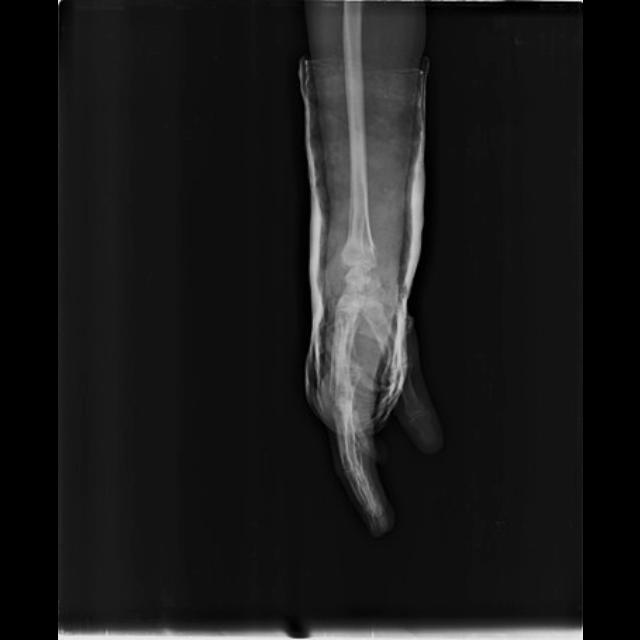Fracture: (340, 235, 383, 255)
